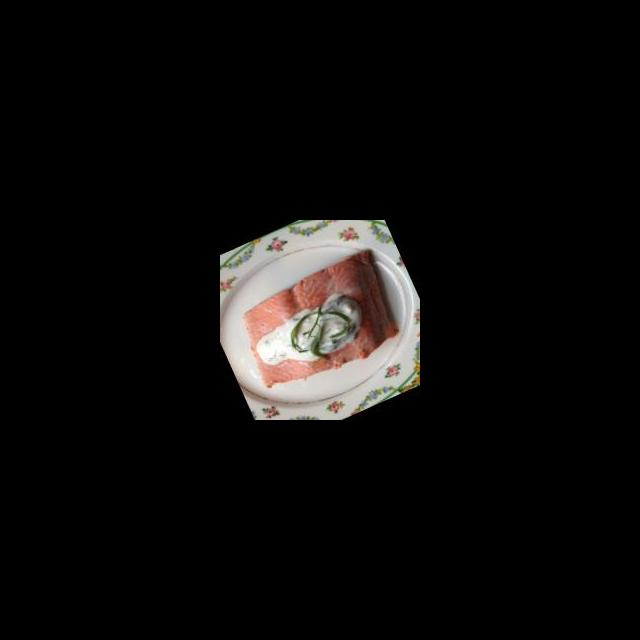ca hoi: (227, 243, 414, 403)
